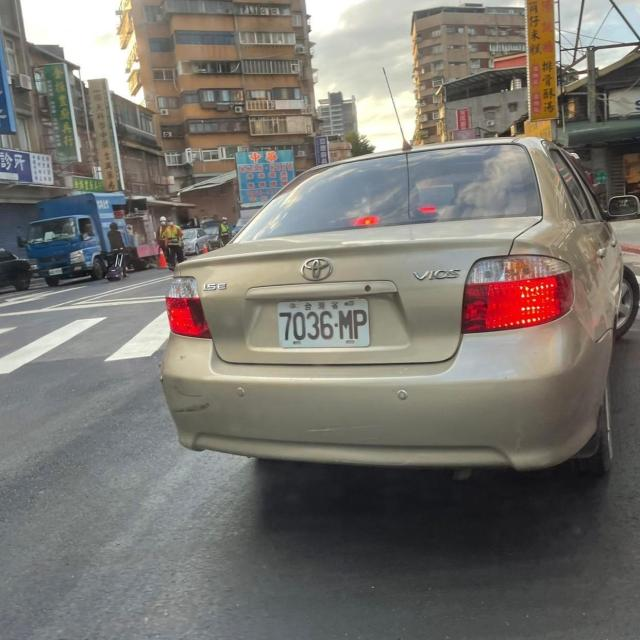W: (269, 290, 375, 352)
